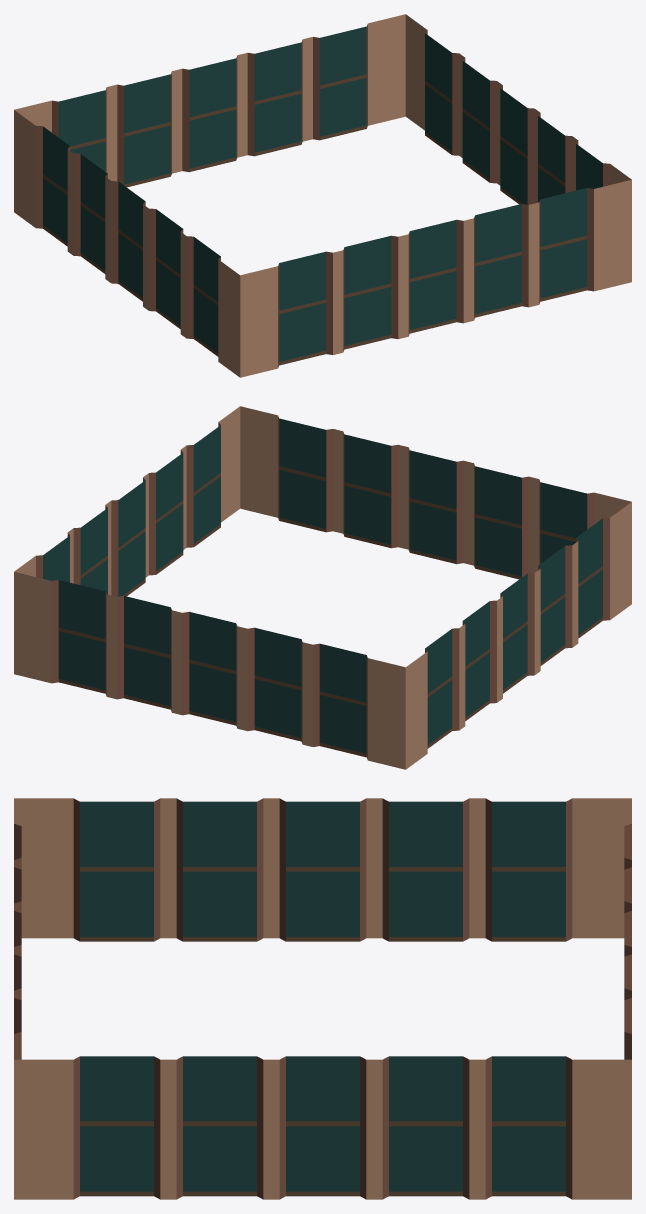
File: TB_CITY_Skysc_M_BodyA_Brown.FBX
3 views of the same model, one above another, from view 1: azimuth 30°, elevation 25°; view 2: azimuth 150°, elevation 25°; view 3: azimuth 270°, elevation 25° (orthographic). The views are drawn at different scales.
Visible parts, largest first — view 1: TB_CITY_Skysc_M_BodyA_Brown; view 2: TB_CITY_Skysc_M_BodyA_Brown; view 3: TB_CITY_Skysc_M_BodyA_Brown.
Part boxes in pixels (x1,y1,x2,y2): TB_CITY_Skysc_M_BodyA_Brown: (14,14,631,377); TB_CITY_Skysc_M_BodyA_Brown: (14,406,631,769); TB_CITY_Skysc_M_BodyA_Brown: (14,798,631,1199).
Size of the model in its own units: 20 by 5 by 20.
